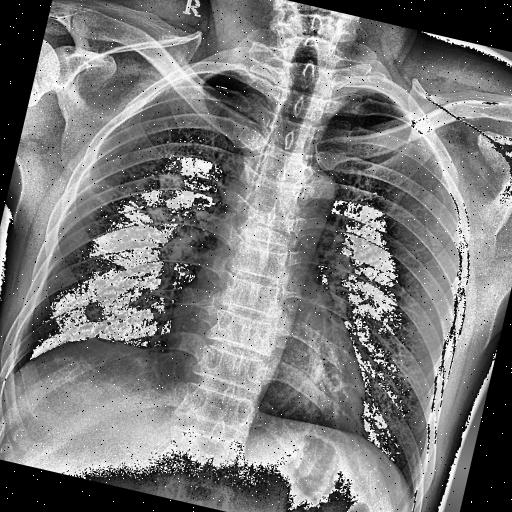8- Nodule-Mass: (119, 161, 198, 243), (136, 156, 196, 236), (65, 282, 128, 339), (116, 190, 182, 244), (60, 284, 124, 338), (142, 160, 202, 202), (70, 288, 115, 336)
